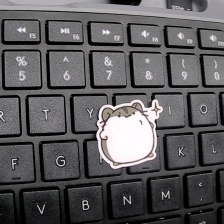mouse: (96, 100, 167, 170)
